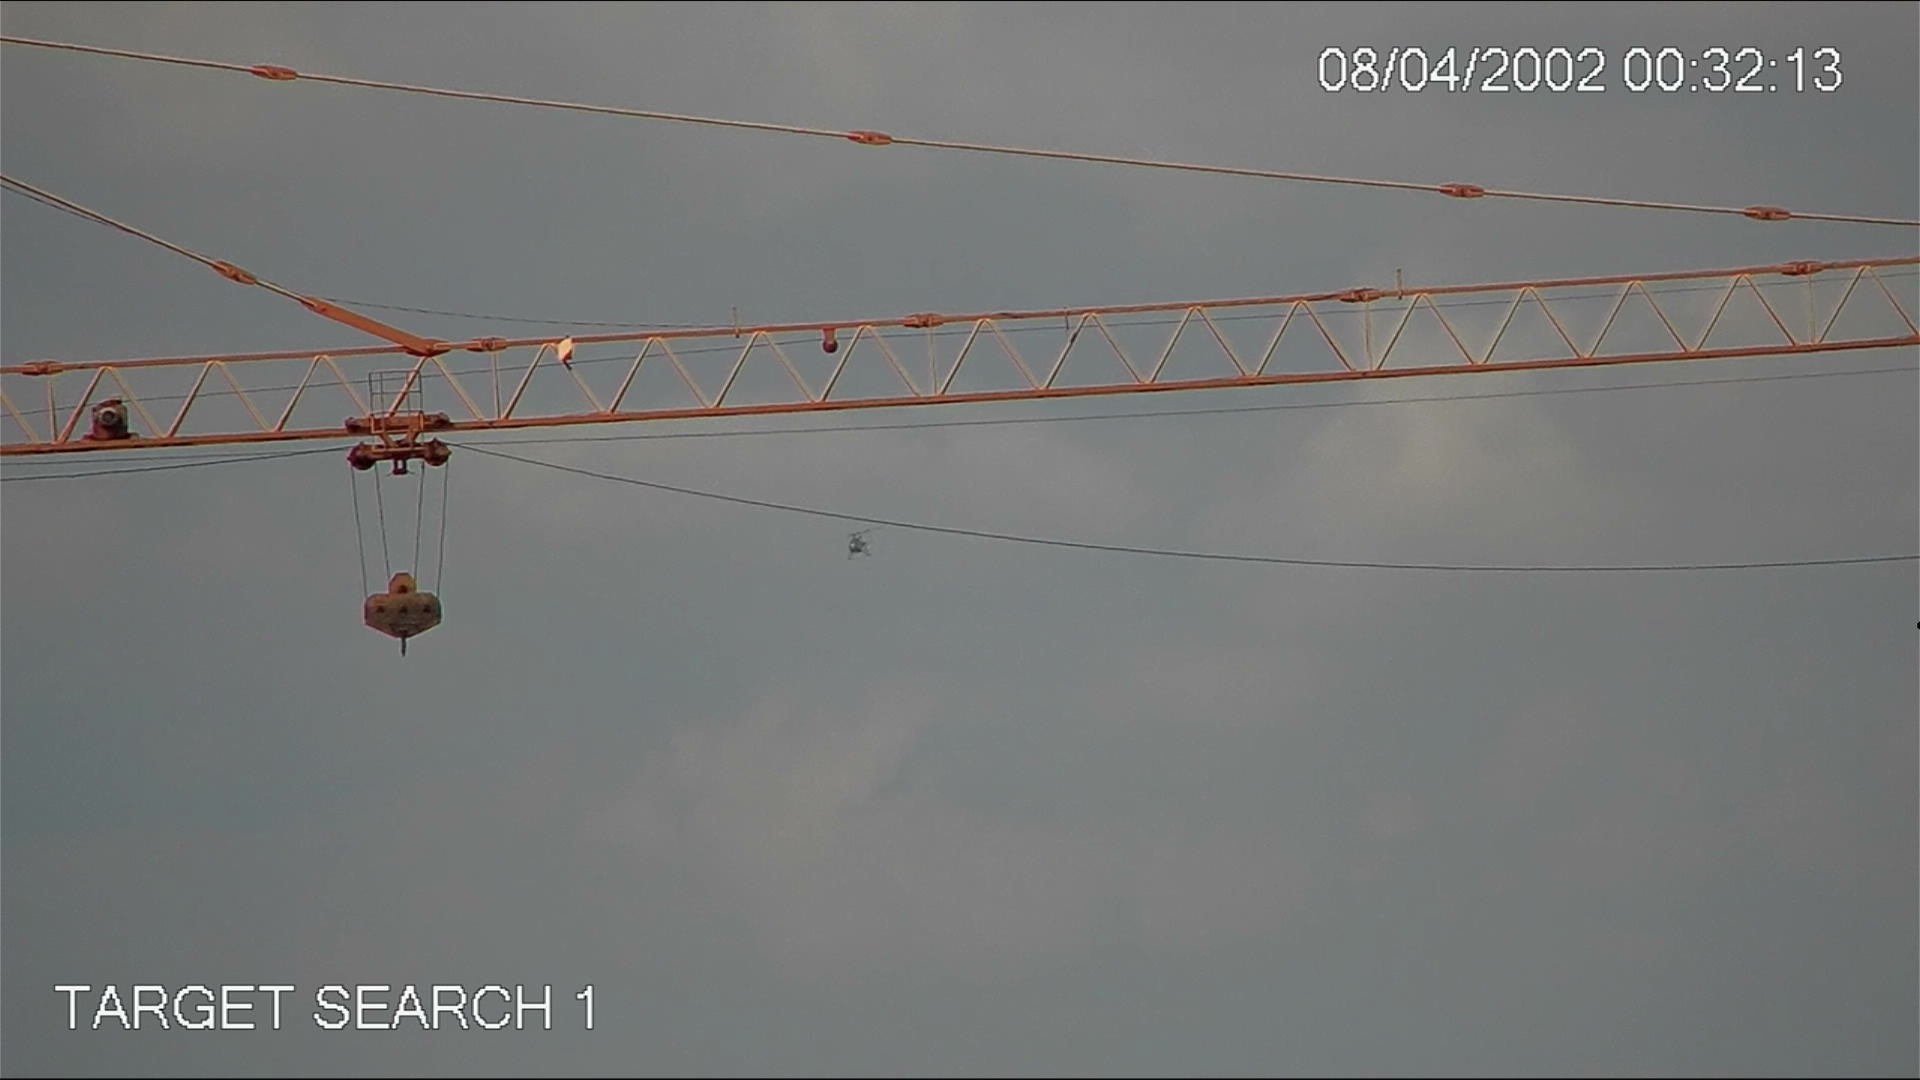SU_30: (831, 527, 880, 568)
